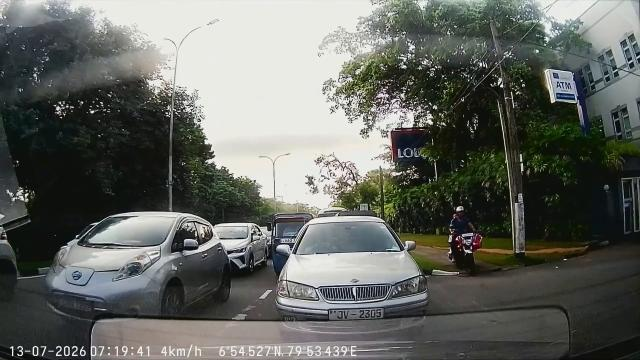illegal overtaking: (443, 205, 491, 272)
number plate: (327, 304, 391, 329)
